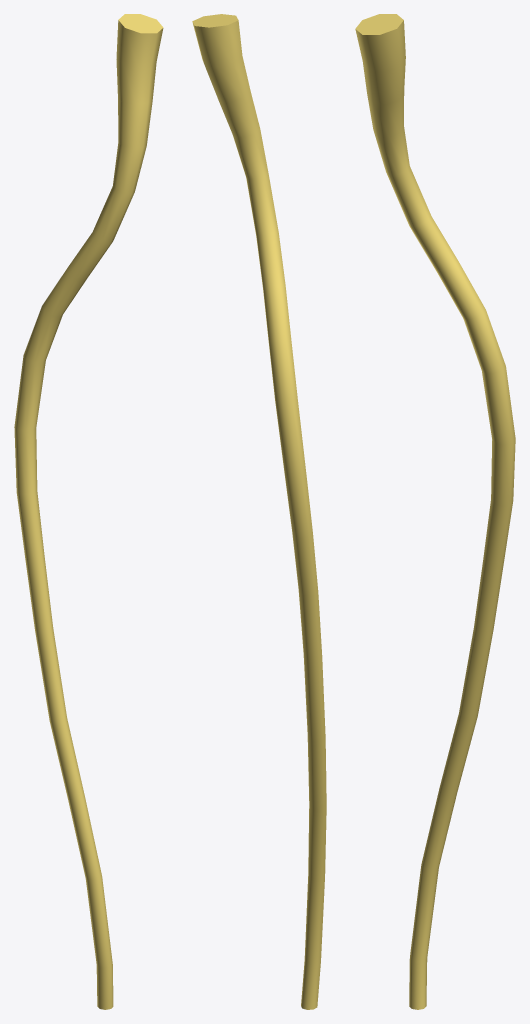
The model's file is nerf-tibial.glb.
3 views of the same model, side by side, from view 1: azimuth 90°, elevation 25°; view 2: azimuth 210°, elevation 25°; view 3: azimuth 270°, elevation 25° (orthographic). The views are drawn at different scales.
Visible parts, largest first — view 1: nerf-tibial; view 2: nerf-tibial; view 3: nerf-tibial.
Part boxes in pixels (x1=…): nerf-tibial: x1=14, y1=14, x2=163, y2=1009; nerf-tibial: x1=192, y1=14, x2=326, y2=1009; nerf-tibial: x1=355, y1=14, x2=515, y2=1009.
Size of the model in its own units: 0.0256 by 0.2279 by 0.0324.
